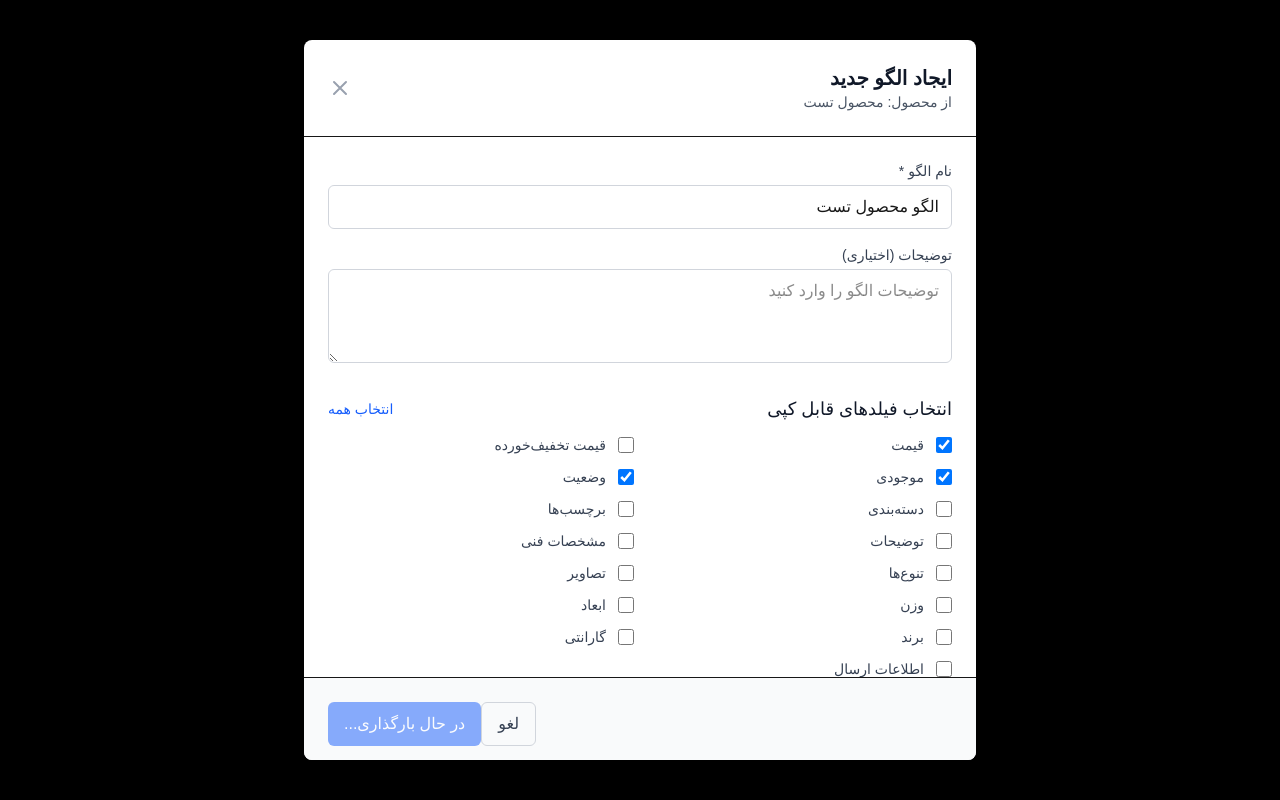
Test: TemplateCreator › handles select all fields
Click the button "انتخاب همه" at (361, 409), box [328,399,393,419]
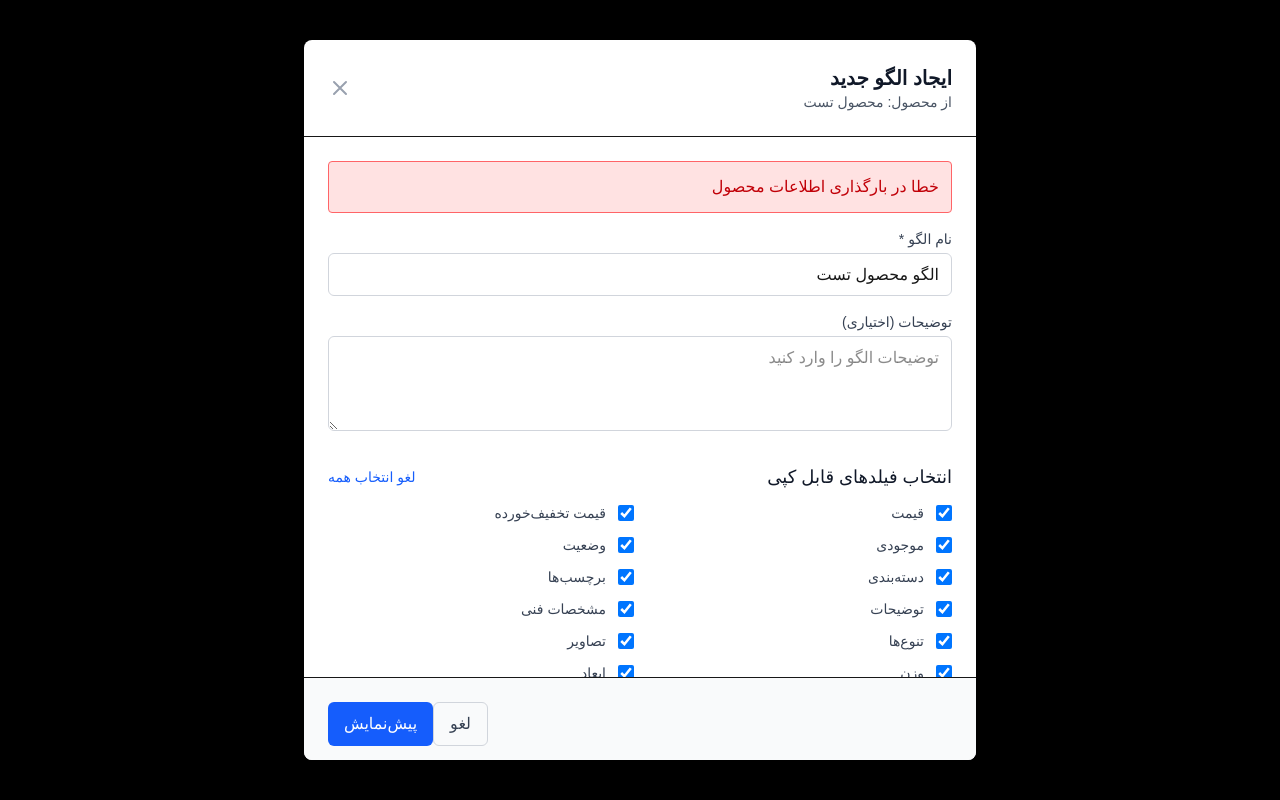
Check: the checkbox labelled "دسته‌بندی" is checked, box [936,569,952,585]
